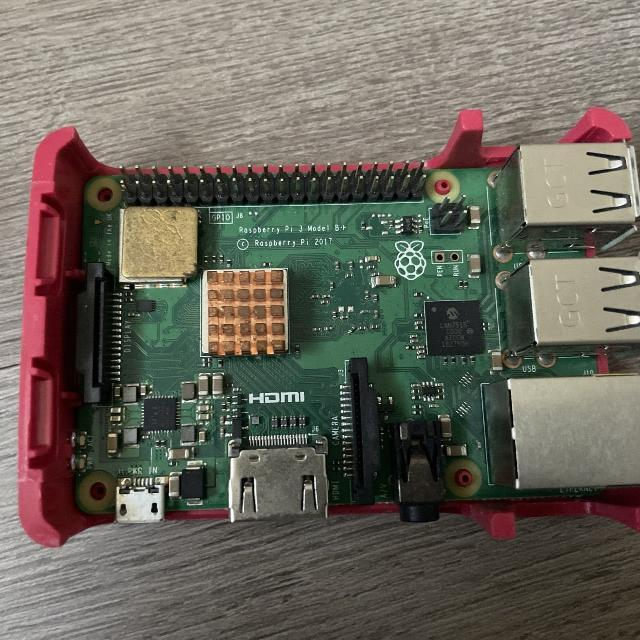Raspberry Pi 3 B-: (72, 114, 640, 523)
